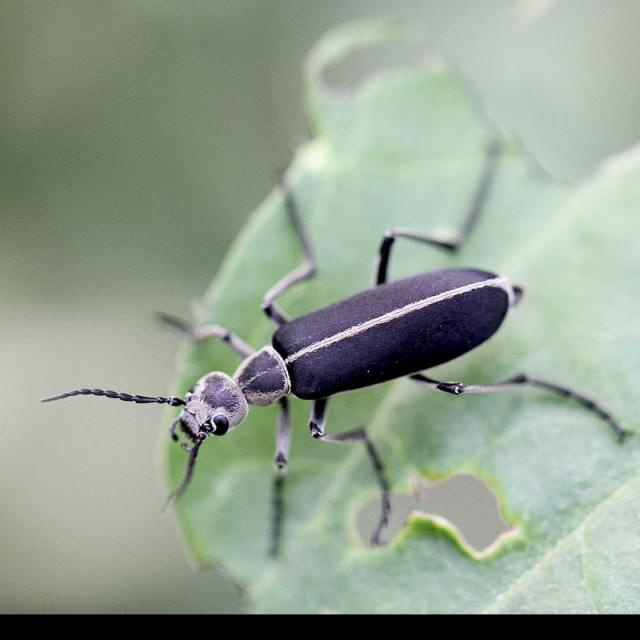BlisterBeetle-Adult-: (125, 165, 638, 559)
